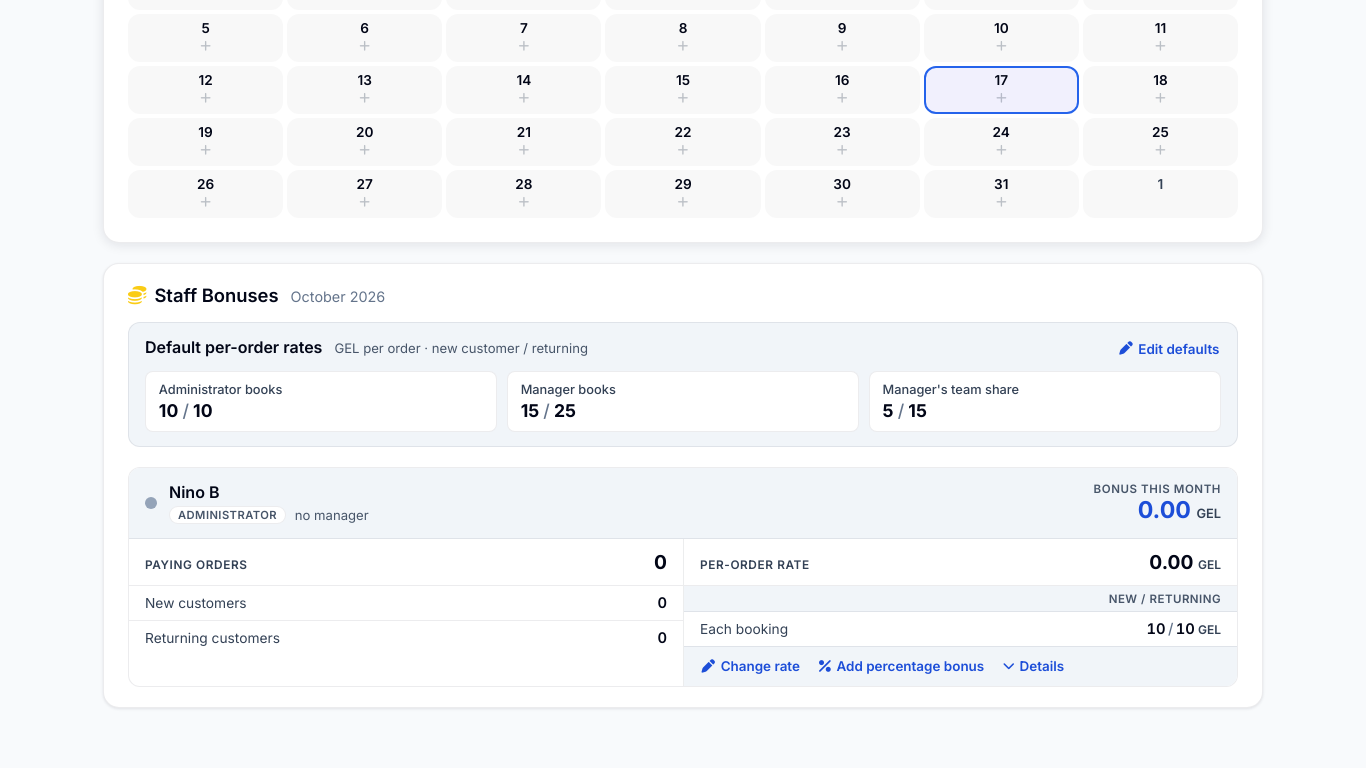
ShiftsComponent › one admin's orders › says so when the month has no completed orders
(page scrolled)
Click the button with class "bonus-details-btn".
click(1034, 666)  # box [1002,655,1066,678]
(page scrolled)
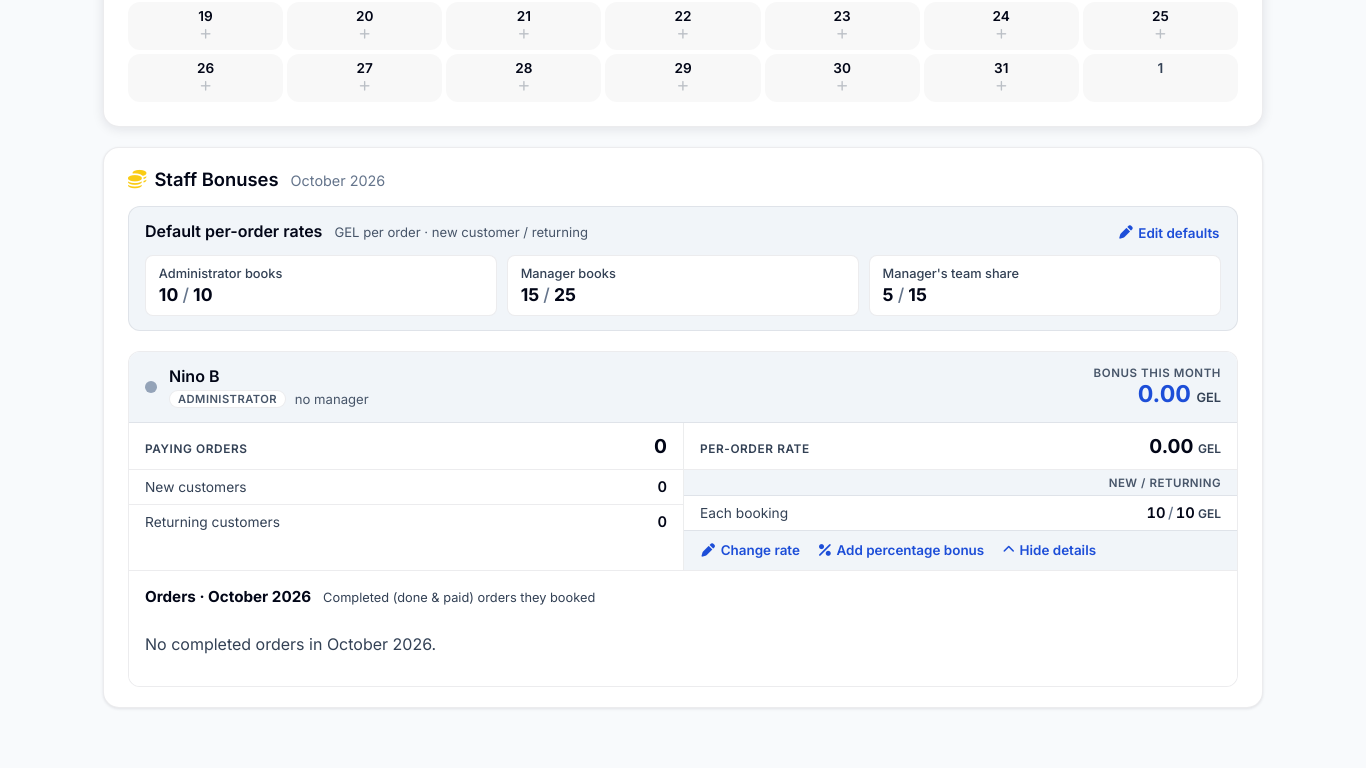
Now the element with class "bonus-orders" shows "No completed orders", box [145,634,436,654]
